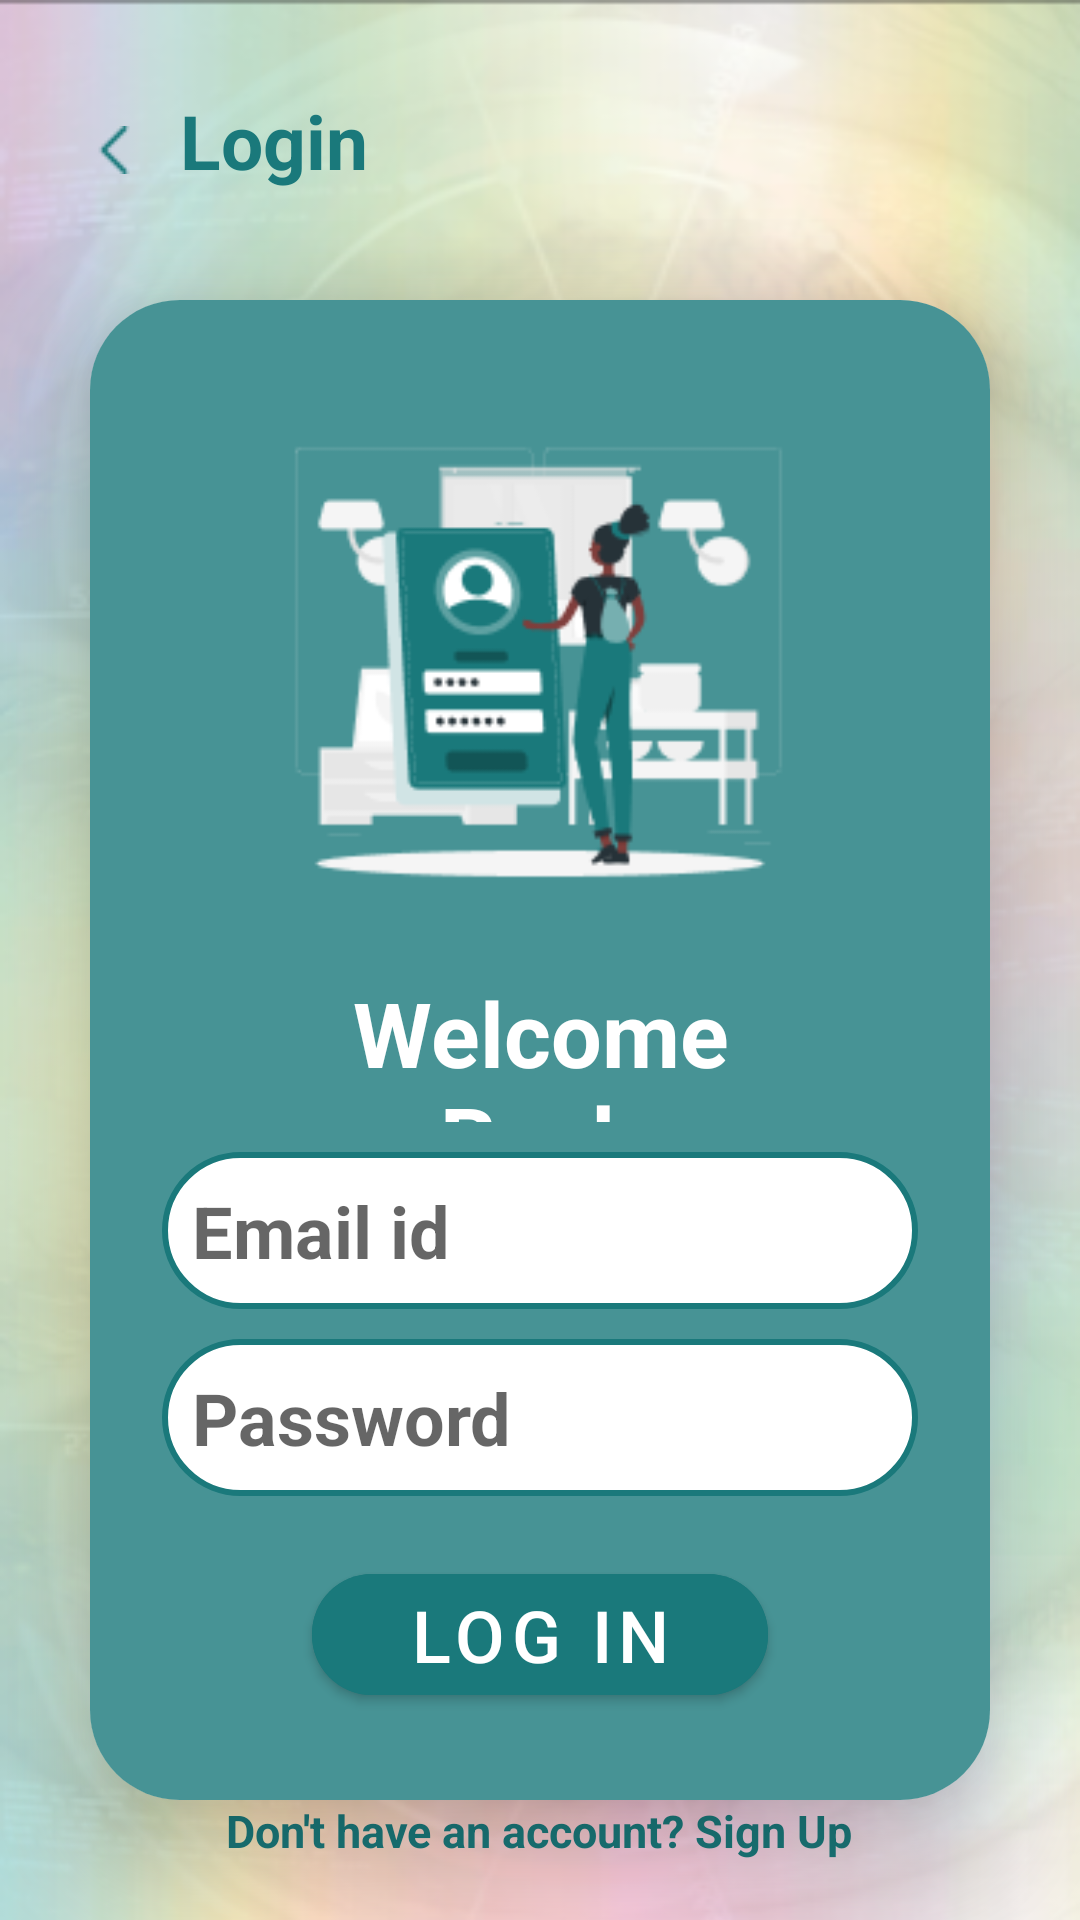

Screen size 1080px×1920px. Icon name, then its center in pixels as point (x, y):
backblueicon: point (114, 150)
